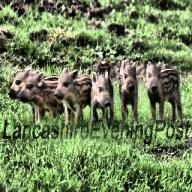boar: (144, 60, 182, 127), (53, 68, 91, 128), (88, 71, 115, 129), (118, 60, 138, 125)
